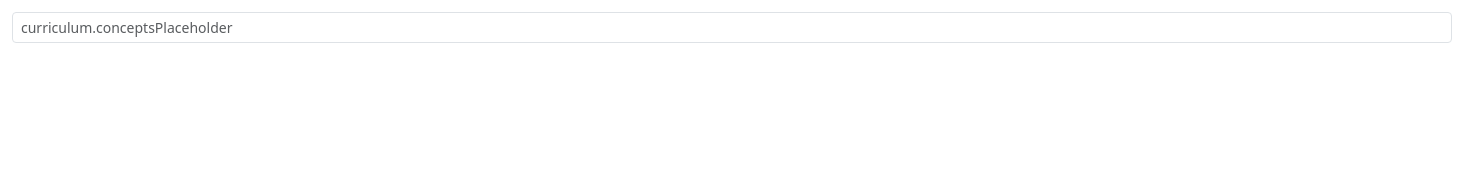
Test: ConceptPicker › still accepts a name the catalogue does not have, and says it is new
Later steps or results of the test are not shown.
Step 1. Type "Kellerautomaten" into the dropdown → x=732, y=28, box [12,12,1452,43]
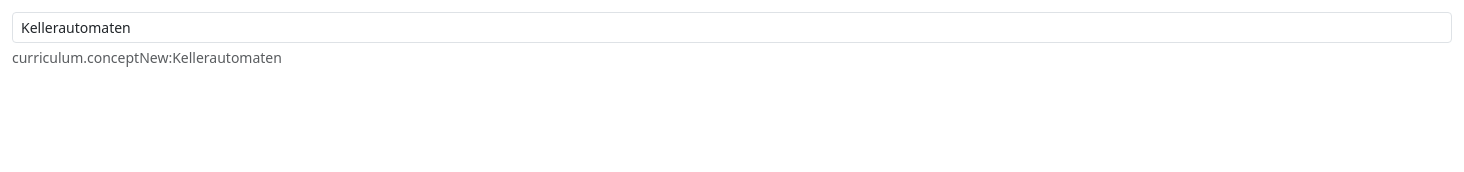
Now the text "curriculum.conceptNew:Kellerautomaten" is shown, box [12,48,282,67]
